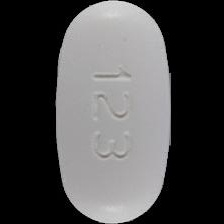67877-296: (0, 0, 224, 224)
